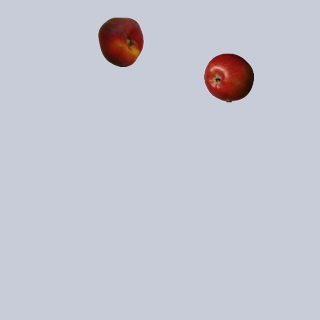Apple Braeburn: (203, 52, 253, 102)
Nectarine Flat: (95, 16, 145, 66)
